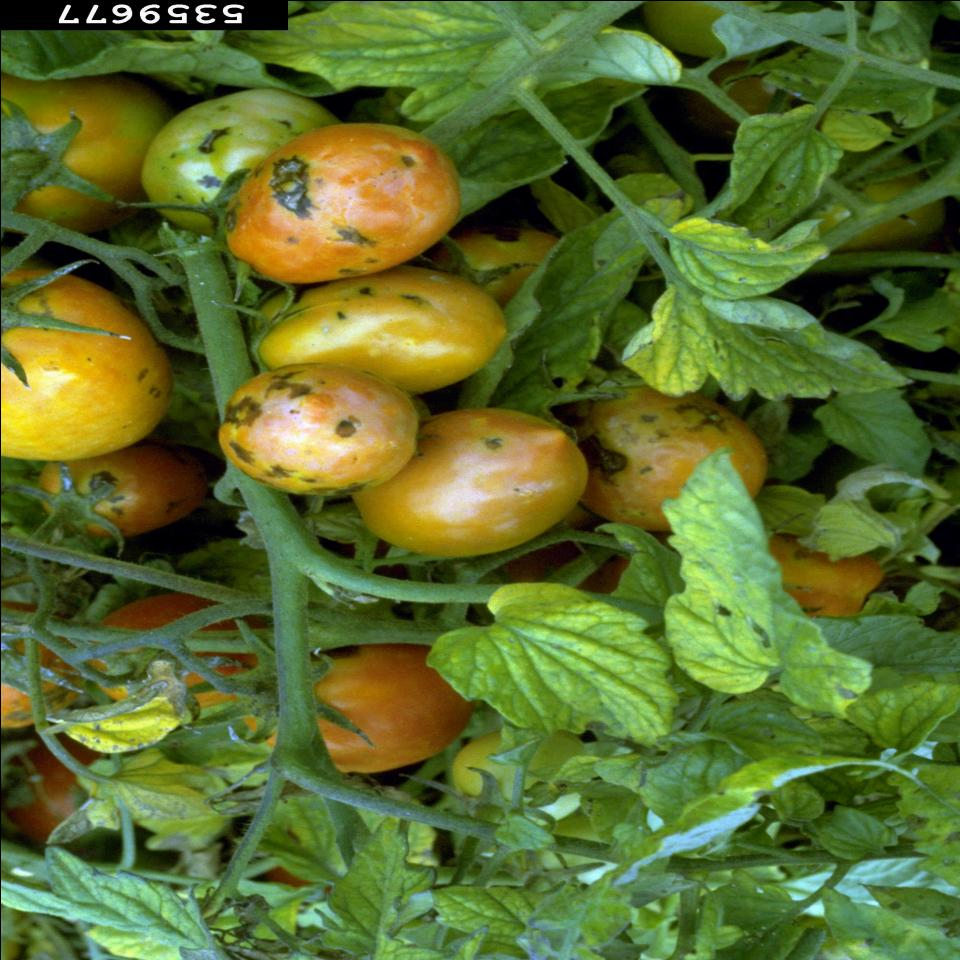Spotted wilt Virus: (215, 118, 454, 286), (356, 406, 589, 558), (0, 252, 165, 461), (250, 265, 502, 393), (144, 86, 348, 232), (572, 378, 765, 532), (221, 364, 418, 502), (44, 444, 222, 544), (730, 532, 898, 622)
